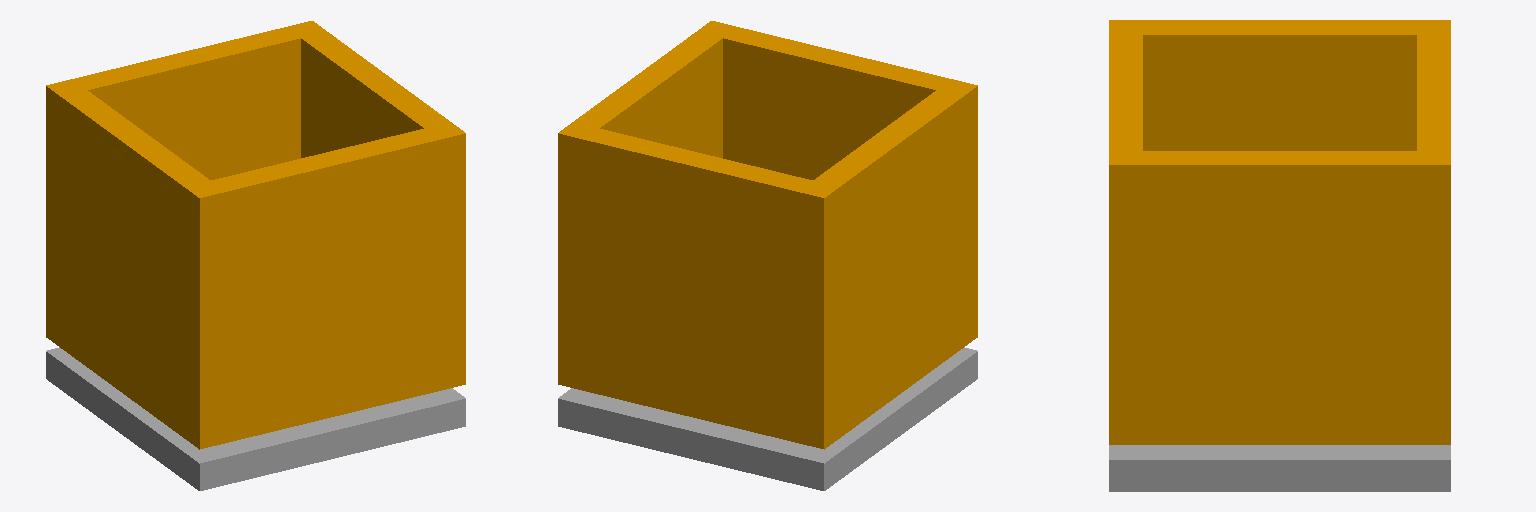
URDF robot description (hollow_box_container):
<?xml version="1.0"?>
<robot name="hollow_box_container">

  <link name="container_link">

    <!-- Approximate inertial parameters -->
    <inertial>
      <origin xyz="0 0 0" rpy="0 0 0"/>
      <mass value="1.0"/>
      <inertia
        ixx="0.005" ixy="0"  ixz="0"
        iyy="0.005" iyz="0"
        izz="0.005"/>
    </inertial>

    <!-- Bottom panel -->
    <visual>
      <origin xyz="0 0 -0.09" rpy="0 0 0"/>
      <geometry>
        <!-- length x width x thickness -->
        <box size="0.2 0.2 0.02"/>
      </geometry>
      <material name="gray"><color rgba="0.7 0.7 0.7 1"/></material>
    </visual>
    <collision>
      <origin xyz="0 0 -0.09" rpy="0 0 0"/>
      <geometry>
        <box size="0.2 0.2 0.02"/>
      </geometry>
    </collision>

    <!-- Front wall (+y) -->
    <visual>
      <origin xyz="0 0.09 0.02" rpy="0 0 0"/>
      <geometry>
        <!-- length x thickness x wall height -->
        <box size="0.2 0.02 0.18"/>
      </geometry>
    </visual>
    <collision>
      <origin xyz="0 0.09 0.02" rpy="0 0 0"/>
      <geometry>
        <box size="0.2 0.02 0.18"/>
      </geometry>
    </collision>

    <!-- Back wall (-y) -->
    <visual>
      <origin xyz="0 -0.09 0.02" rpy="0 0 0"/>
      <geometry>
        <box size="0.2 0.02 0.18"/>
      </geometry>
    </visual>
    <collision>
      <origin xyz="0 -0.09 0.02" rpy="0 0 0"/>
      <geometry>
        <box size="0.2 0.02 0.18"/>
      </geometry>
    </collision>

    <!-- Left wall (-x) -->
    <visual>
      <origin xyz="-0.09 0 0.02" rpy="0 0 0"/>
      <geometry>
        <!-- thickness x width x wall height -->
        <box size="0.02 0.2 0.18"/>
      </geometry>
    </visual>
    <collision>
      <origin xyz="-0.09 0 0.02" rpy="0 0 0"/>
      <geometry>
        <box size="0.02 0.2 0.18"/>
      </geometry>
    </collision>

    <!-- Right wall (+x) -->
    <visual>
      <origin xyz="0.09 0 0.02" rpy="0 0 0"/>
      <geometry>
        <box size="0.02 0.2 0.18"/>
      </geometry>
    </visual>
    <collision>
      <origin xyz="0.09 0 0.02" rpy="0 0 0"/>
      <geometry>
        <box size="0.02 0.2 0.18"/>
      </geometry>
    </collision>

  </link>

</robot>

--- Facts derived from the render (not from the file) ---
3 views of the same robot in one strip: view 1: azimuth 30°, elevation 25°; view 2: azimuth 150°, elevation 25°; view 3: azimuth 270°, elevation 25° (orthographic).
Robot: hollow_box_container — 1 links, 0 joints (none); root link container_link; default pose: all joints at 0.
Visible links, largest first — view 1: container_link; view 2: container_link; view 3: container_link.
Link boxes in pixels (bbox=[...]): container_link: bbox=[46, 21, 465, 490]; container_link: bbox=[558, 21, 977, 490]; container_link: bbox=[1109, 20, 1450, 491].
Size in the robot's own frame: 0.2 by 0.2 by 0.21 metres.
Geometry: primitives only (box / cylinder / sphere), no mesh files.
